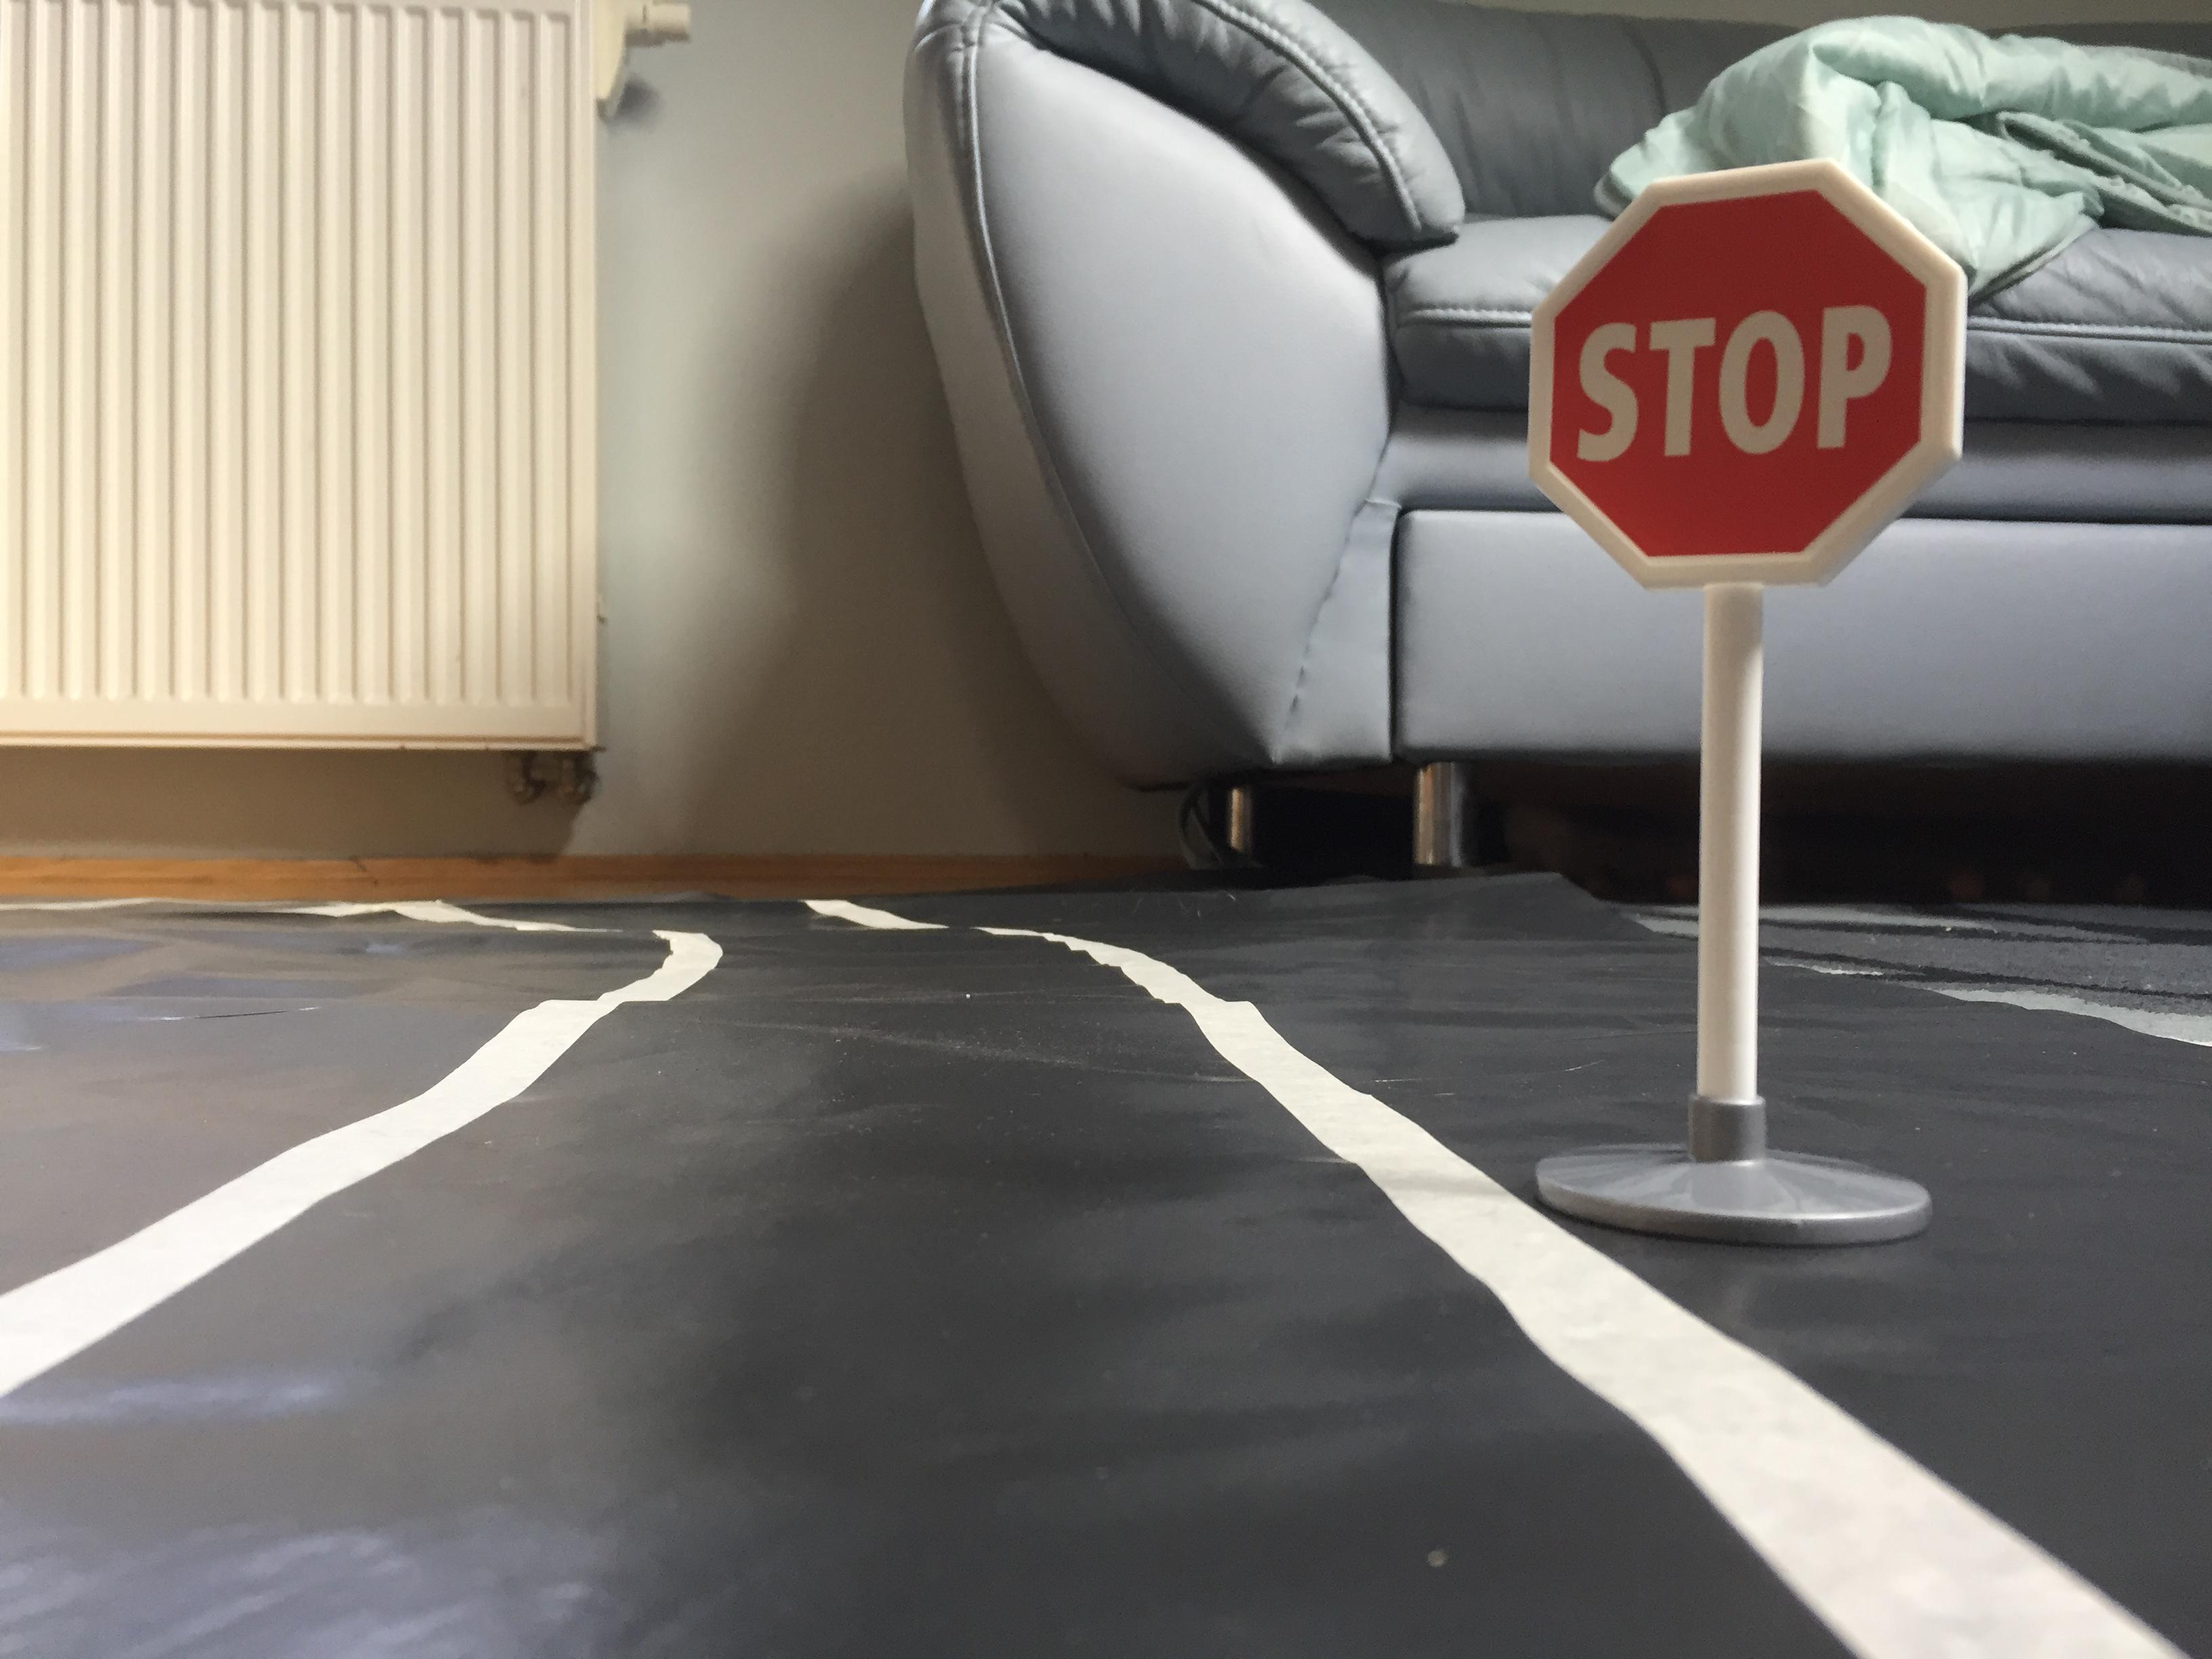stop: (1519, 146, 1966, 601)
